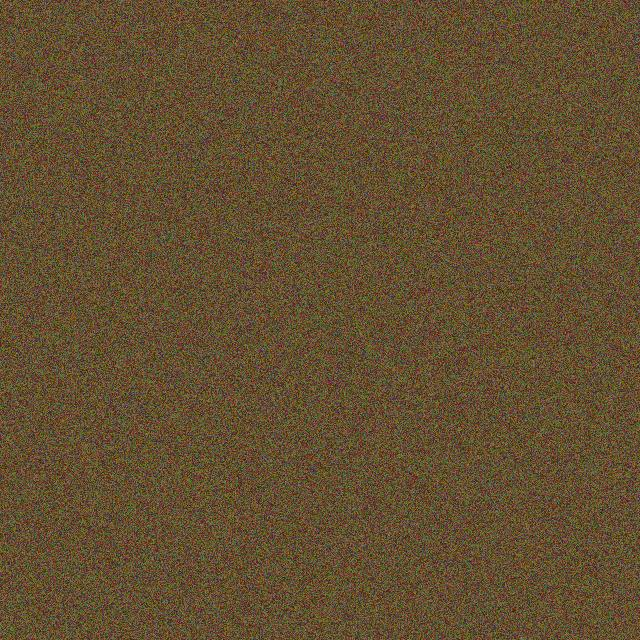unknown_man_made_object: (419, 107, 472, 202)
